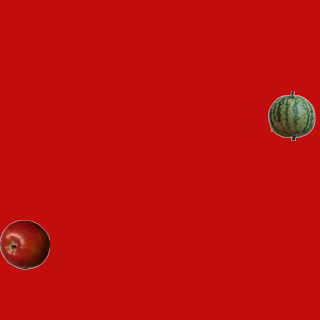Apple Braeburn: (0, 219, 49, 269)
Watermelon: (266, 90, 316, 140)
